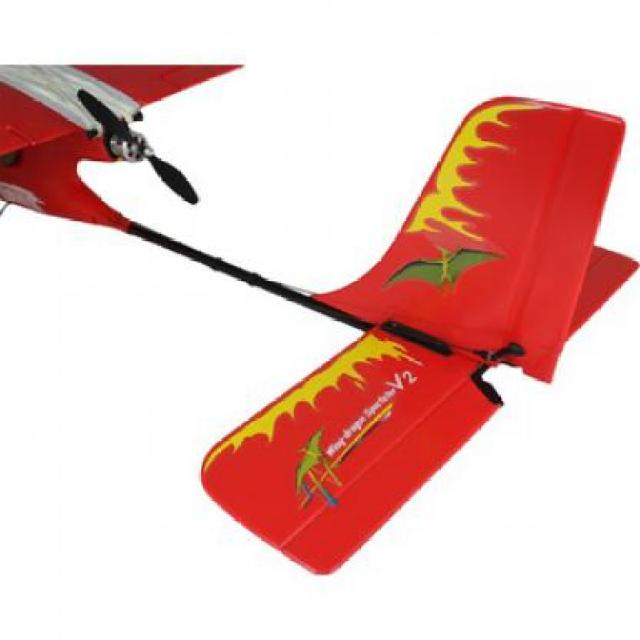iha: (4, 64, 640, 576)
